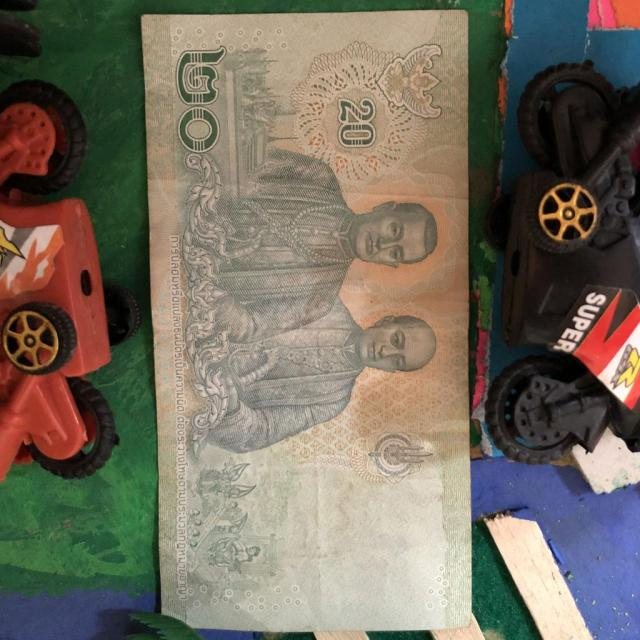THAI20: (142, 9, 471, 631)
